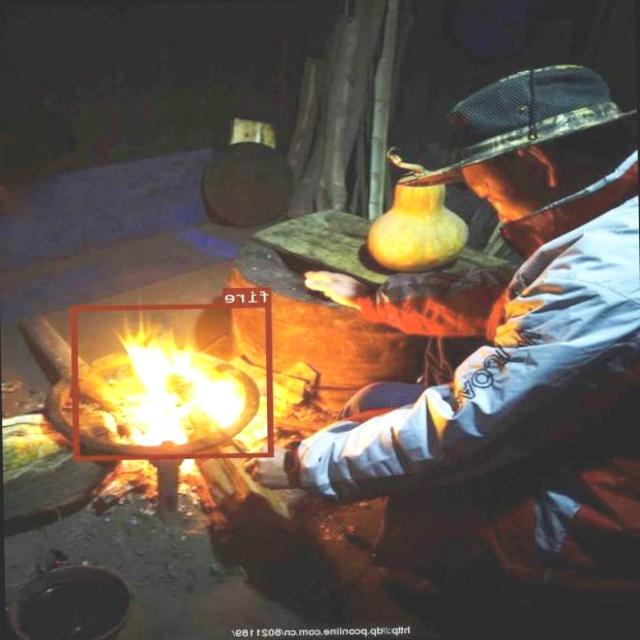fire: (72, 302, 275, 459)
